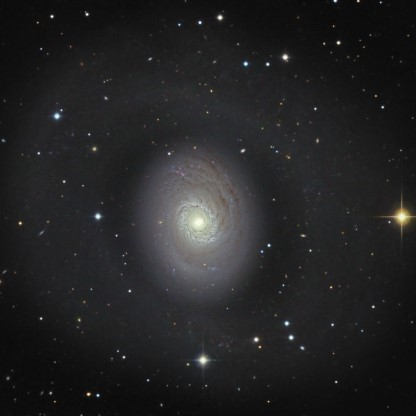Messier 94: (31, 45, 372, 386)
